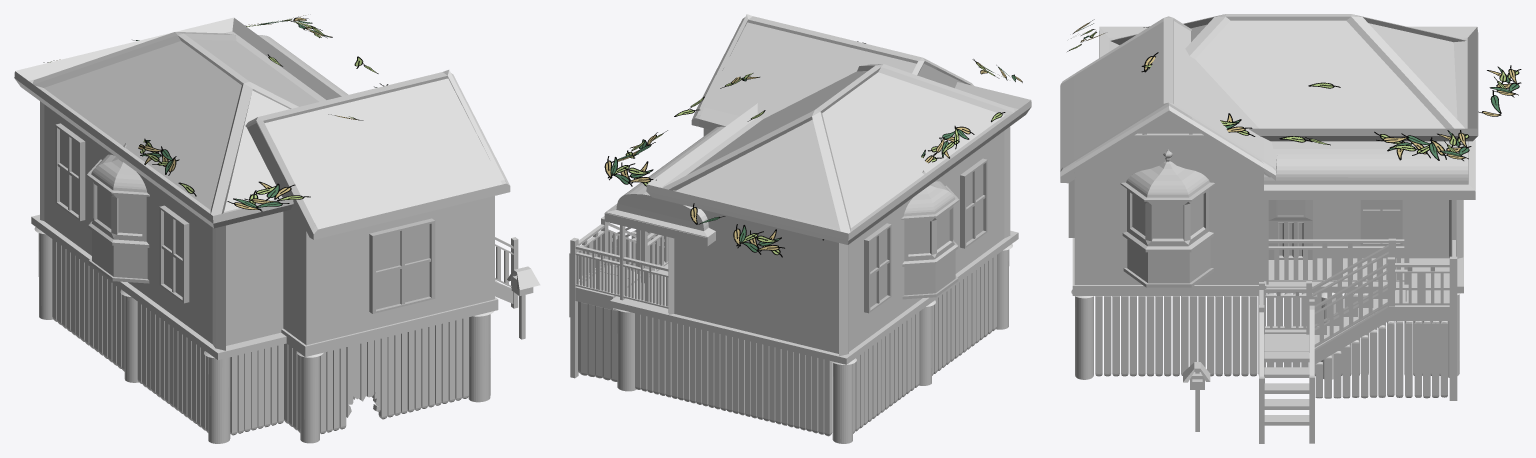
The model's file is HouseFinalMaybe.fbx.
3 views of the same model, side by side, from view 1: azimuth 30°, elevation 25°; view 2: azimuth 150°, elevation 25°; view 3: azimuth 270°, elevation 25° (orthographic). The views are drawn at different scales.
Visible parts, largest first — view 1: MainHouse, MainHousePt2, Cube, Outcrop1.001, Cube.037, Cube.029, Window1.003, Cube.022, Window1.002, Window1.001, Cube.053, Post6 (+11 smaller); view 2: MainHouse, Cube.030, MainHousePt2, Outcrop1.001, Cube.037, Cube.029, Awning, Railing7, Window1.002, Window1.001, Post5, Cube.025 (+11 smaller); view 3: MainHouse, MainHousePt2, Cube.002, Awning, Outcrop1, Railing8, StairsBase, Cube.025, Stairs1, Railing6, Door, Railing1 (+21 smaller).
Boxes of the visible parts, <box> form: MainHouse: <box>14,17,341,359</box>; MainHousePt2: <box>245,70,510,356</box>; Cube: <box>387,317,468,417</box>; Outcrop1.001: <box>87,143,149,283</box>; Cube.037: <box>52,239,124,371</box>; Cube.029: <box>137,302,208,432</box>; Window1.003: <box>369,218,435,313</box>; Cube.022: <box>230,344,283,435</box>; Window1.002: <box>159,205,189,303</box>; Window1.001: <box>55,123,85,220</box>; Cube.053: <box>320,347,346,433</box>; Post6: <box>204,351,230,443</box>; MainHouse: <box>610,64,1031,364</box>; Cube.030: <box>635,313,832,436</box>; MainHousePt2: <box>691,14,973,135</box>; Outcrop1.001: <box>901,170,959,299</box>; Cube.037: <box>853,312,919,433</box>; Cube.029: <box>932,255,996,375</box>; Awning: <box>604,126,725,246</box>; Railing7: <box>575,225,668,308</box>; Window1.002: <box>960,158,987,248</box>; Window1.001: <box>864,223,891,313</box>; Post5: <box>830,358,856,443</box>; Cube.025: <box>570,224,604,378</box>; MainHouse: <box>1099,14,1478,293</box>; MainHousePt2: <box>1060,16,1277,295</box>; Cube.002: <box>1095,293,1440,376</box>; Awning: <box>1264,139,1475,199</box>; Outcrop1: <box>1120,149,1215,287</box>; Railing8: <box>1264,200,1404,284</box>; StairsBase: <box>1265,285,1449,364</box>; Cube.025: <box>1395,256,1457,400</box>; Stairs1: <box>1264,351,1309,425</box>; Railing6: <box>1309,257,1394,366</box>; Door: <box>1268,200,1312,259</box>; Railing1: <box>1306,238,1395,334</box>.
Size of the model in its own units: 2076 by 1529 by 2171.
